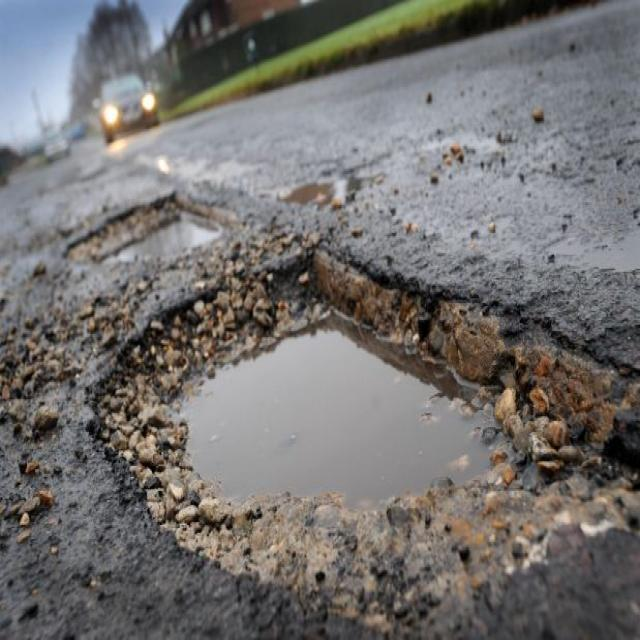pothole: (80, 241, 630, 592), (64, 188, 235, 266)
